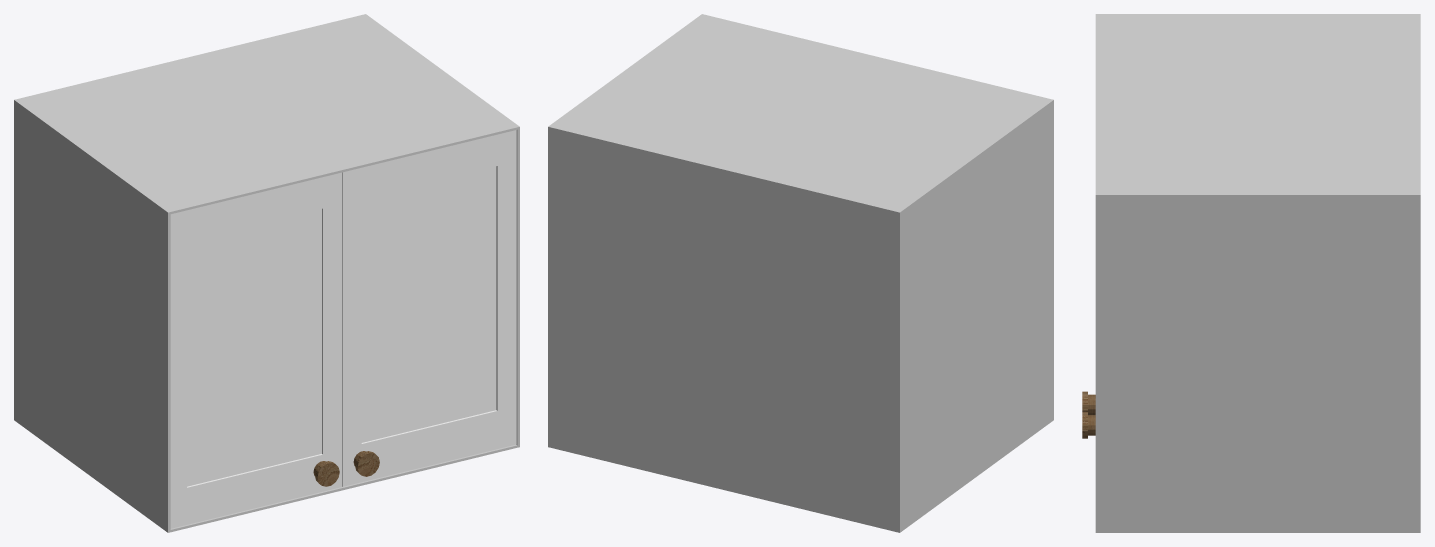
File: top cabinet.fbx
The picture shows the model from 3 angles, left to right: view 1: azimuth 30°, elevation 25°; view 2: azimuth 150°, elevation 25°; view 3: azimuth 270°, elevation 25°; orthographic projection. The views are drawn at different scales.
Visible parts, largest first — view 1: Cube, leftdoor.001, rightdoor.001; view 2: Cube; view 3: Cube.
Part boxes in pixels (<box>): Cube: <box>14,14,519,532</box>; leftdoor.001: <box>342,130,516,486</box>; rightdoor.001: <box>170,172,341,528</box>; Cube: <box>548,14,1053,532</box>; Cube: <box>1095,14,1420,532</box>.
Bounding box in the file's own units: 90.46 × 78.71 × 71.37.
Materials: 2 (1 with a texture image).
